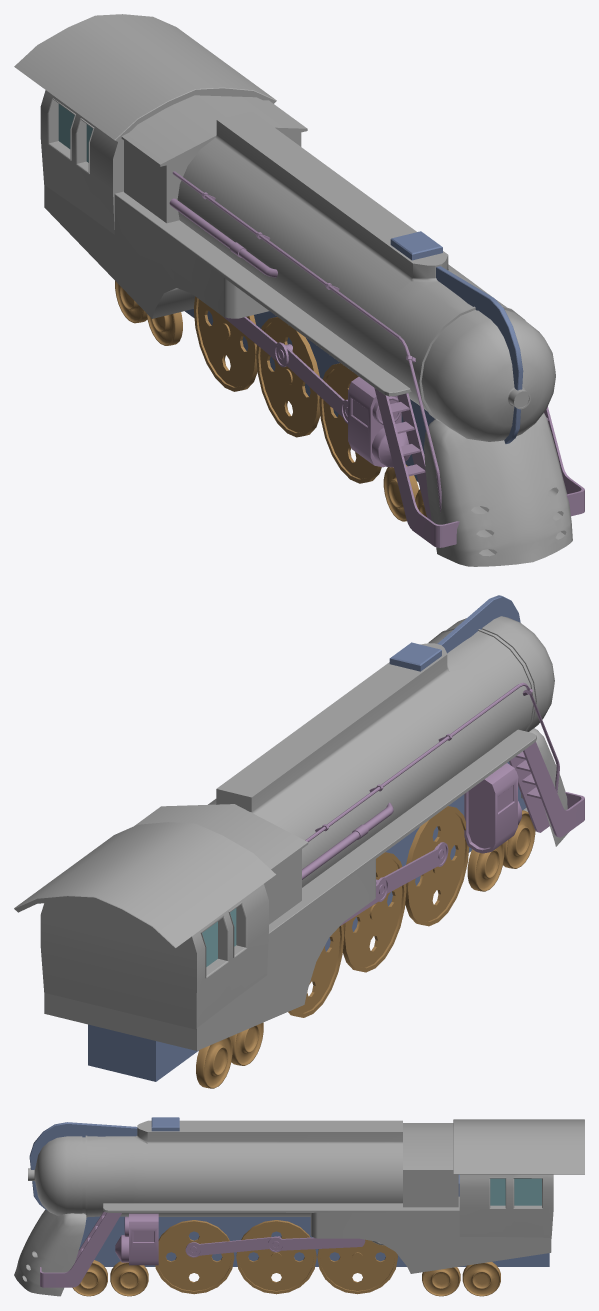
The model's file is tren.fbx.
The picture shows the model from 3 angles, top to bottom: view 1: azimuth 30°, elevation 25°; view 2: azimuth 150°, elevation 25°; view 3: azimuth 270°, elevation 25°; orthographic projection. The views are drawn at different scales.
Visible parts, largest first — view 1: pCylinder1, pCube1, pasted__pCube14, polySurface18, pCube16, polySurface13, pasted__polySurface9, pCube35, pasted__polySurface8, polySurface14, pasted__polySurface10, pCube2 (+9 smaller); view 2: pCylinder1, polySurface13, pCube1, pasted__pCube14, pCube16, pCube15, pasted__polySurface10, polySurface14, pasted__polySurface9, pCube35, pasted__polySurface8, pCube27 (+10 smaller); view 3: pCylinder1, pCube1, pasted__pCube14, polySurface13, pCube16, pCube15, pasted__polySurface13, polySurface18, pasted__polySurface12, pasted__polySurface11, polySurface19, pCube36 (+9 smaller).
Part boxes in pixels (<box>): pCylinder1: <box>177,111,555,441</box>; pCube1: <box>44,185,411,396</box>; pasted__pCube14: <box>14,14,276,141</box>; polySurface18: <box>424,413,572,566</box>; pCube16: <box>121,95,307,223</box>; polySurface13: <box>40,90,255,234</box>; pasted__polySurface9: <box>256,317,320,437</box>; pCube35: <box>374,388,459,547</box>; pasted__polySurface8: <box>194,296,257,391</box>; polySurface14: <box>348,376,410,467</box>; pasted__polySurface10: <box>319,363,381,483</box>; pCube2: <box>436,266,523,443</box>; pCylinder1: <box>208,616,554,887</box>; polySurface13: <box>40,884,268,1029</box>; pCube1: <box>44,729,536,1050</box>; pasted__pCube14: <box>14,822,275,949</box>; pCube16: <box>134,804,308,924</box>; pCube15: <box>88,761,526,1081</box>; pasted__polySurface10: <box>405,806,469,926</box>; polySurface14: <box>464,763,521,853</box>; pasted__polySurface9: <box>343,852,406,972</box>; pCube35: <box>509,742,584,837</box>; pasted__polySurface8: <box>288,924,344,1017</box>; pCube27: <box>305,682,559,841</box>; pCylinder1: <box>28,1120,402,1217</box>; pCube1: <box>103,1196,551,1273</box>; pasted__pCube14: <box>453,1119,584,1174</box>; polySurface13: <box>459,1174,553,1238</box>; pCube16: <box>403,1123,458,1207</box>; pCube15: <box>79,1174,549,1266</box>; pasted__polySurface13: <box>155,1220,234,1294</box>; polySurface18: <box>14,1209,86,1296</box>; pasted__polySurface12: <box>236,1220,316,1294</box>; pasted__polySurface11: <box>317,1239,397,1294</box>; polySurface19: <box>115,1213,158,1265</box>; pCube36: <box>40,1211,121,1287</box>.
Size of the model in its own units: 4.38 by 6.34 by 20.43.
